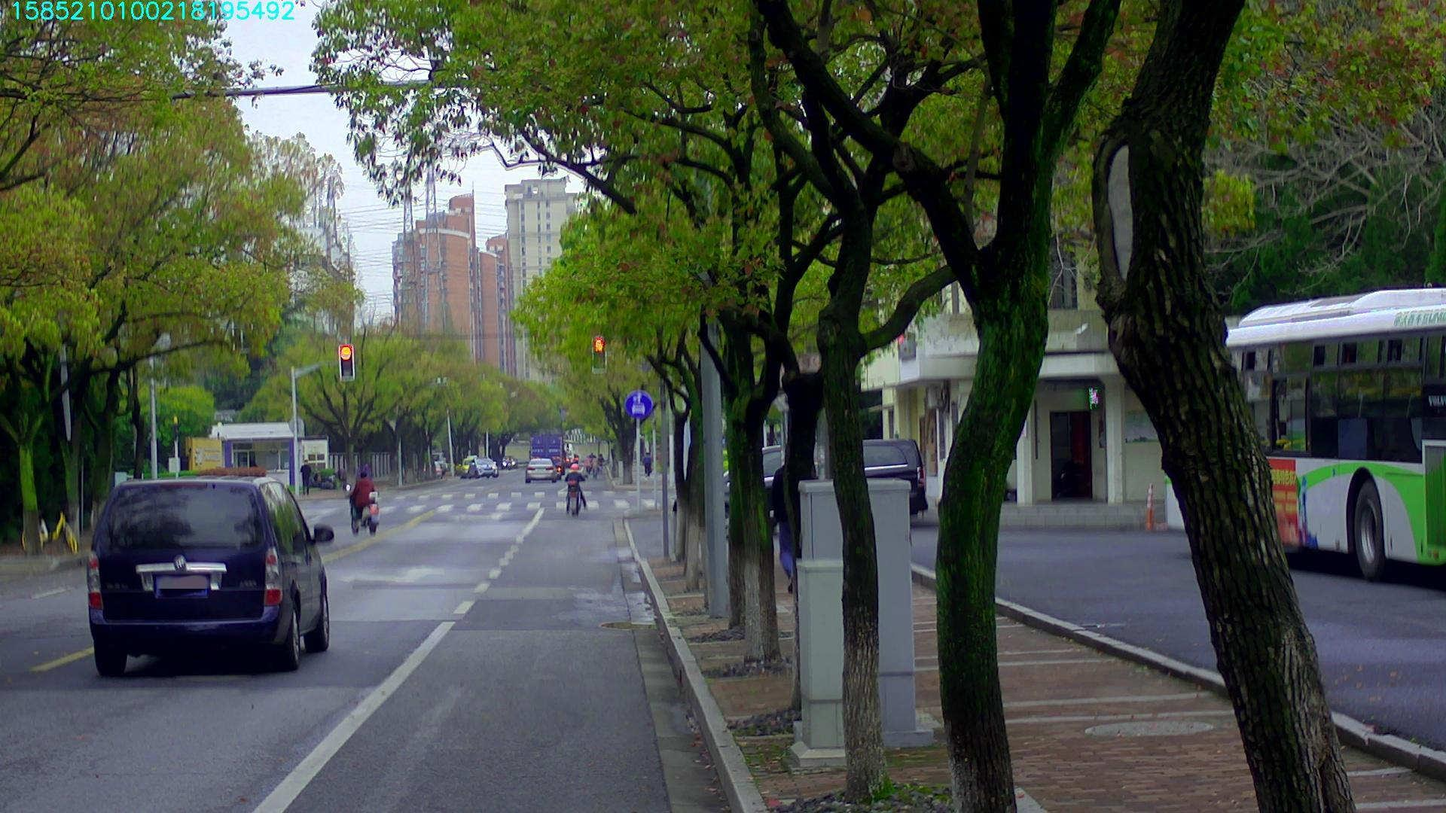red: (591, 334, 606, 371), (339, 344, 353, 379)
